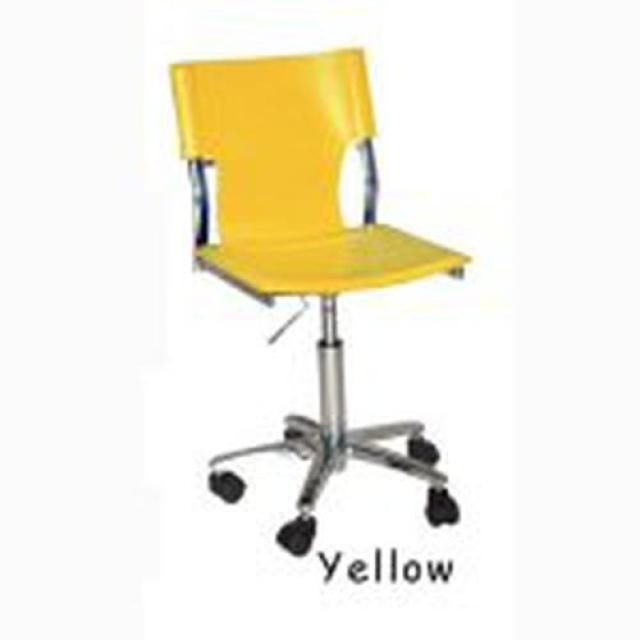table: (168, 47, 471, 559)
